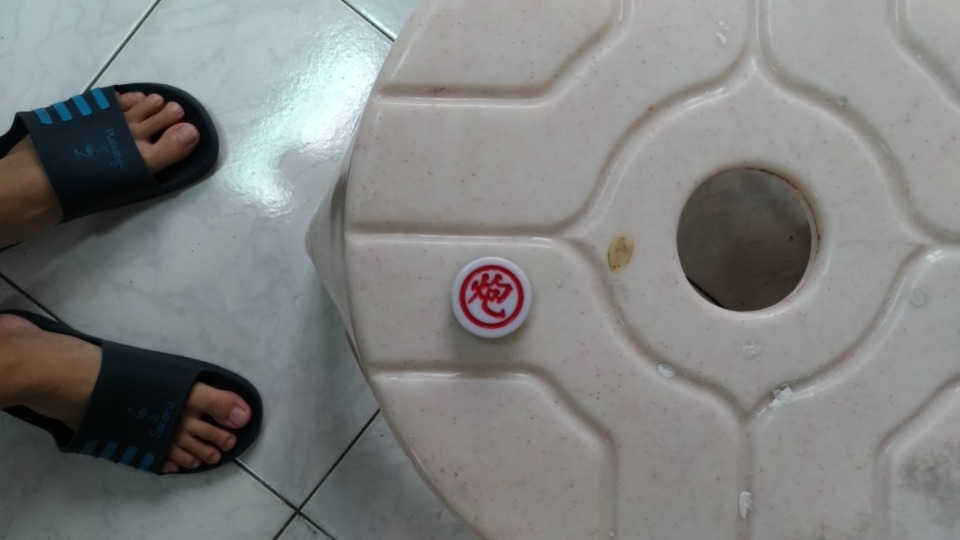r-cannon: (443, 246, 546, 348)
